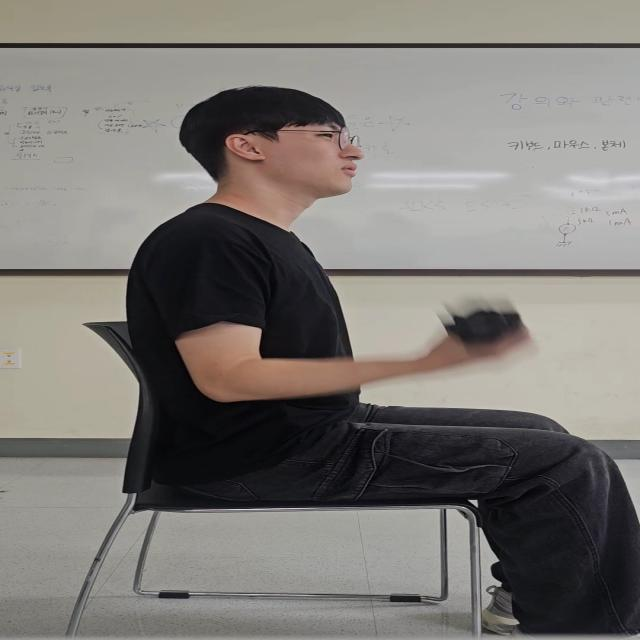curl: (141, 228, 544, 401)
